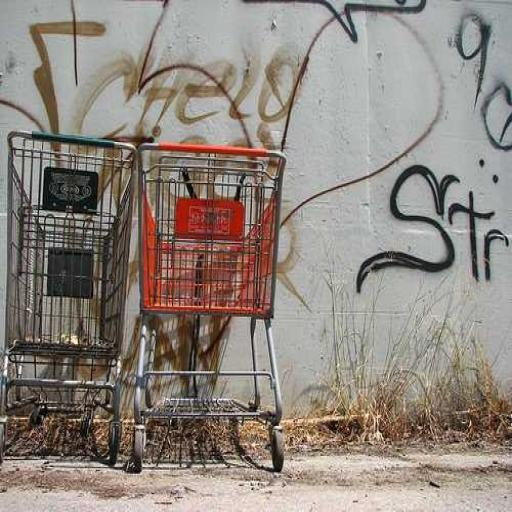shopping_cart: (131, 143, 289, 474), (0, 128, 139, 465)
